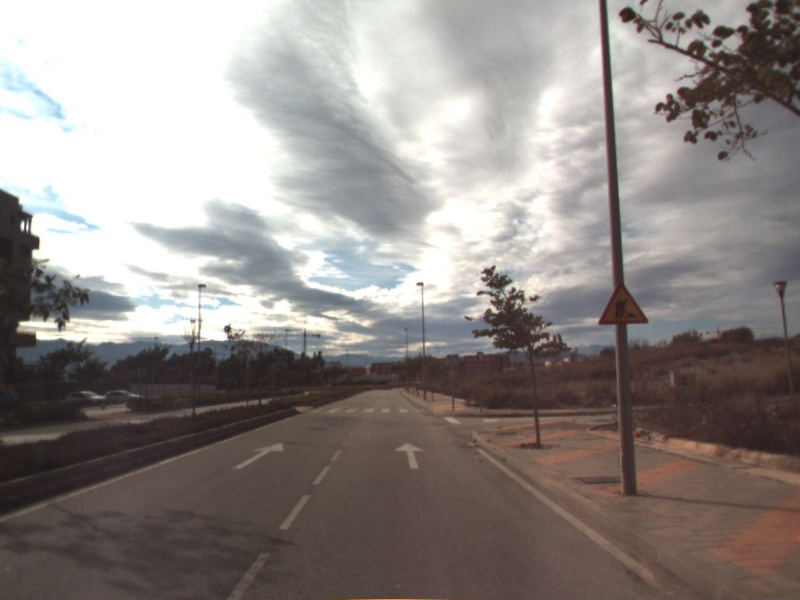STRAIGHT: (230, 440, 285, 471), (392, 440, 426, 471)
